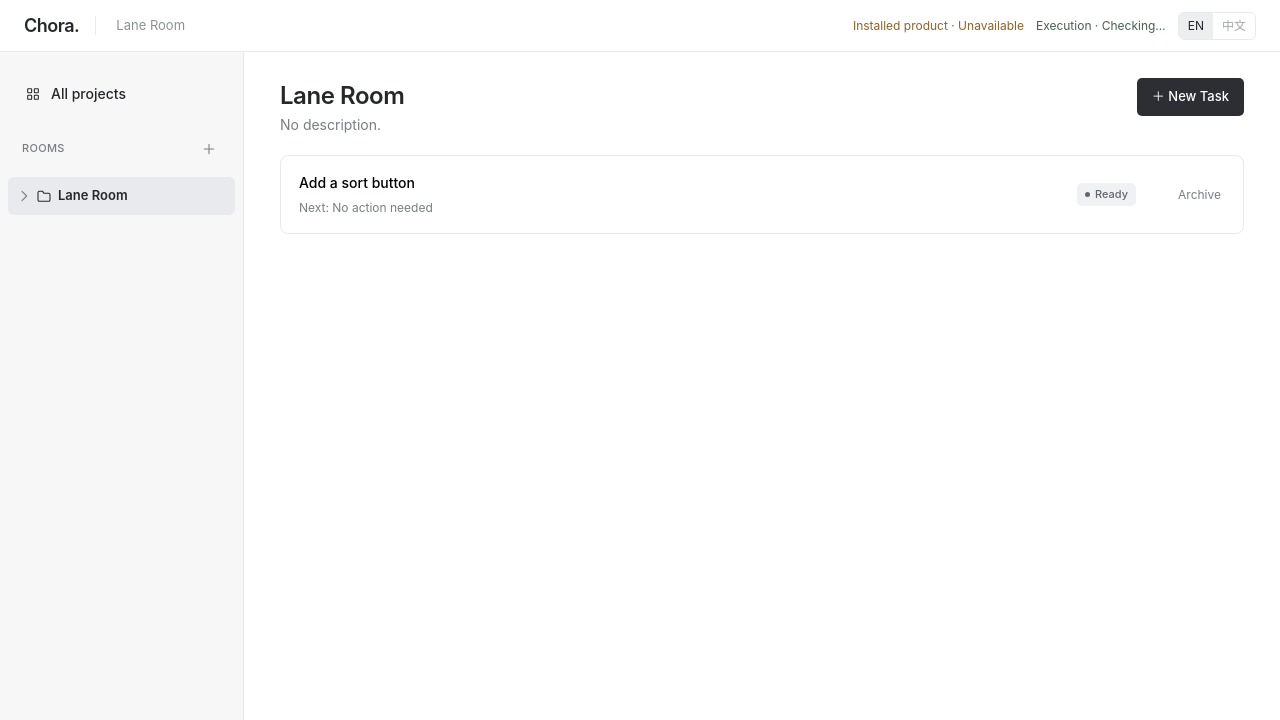
Test case: NewApp › archives and restores a Task
Expected: the text "Add a sort button" is shown, 299,174 -> 415,191
Step 1. Click the button "Archive" → (1200, 194), box 1164,180 -> 1235,210
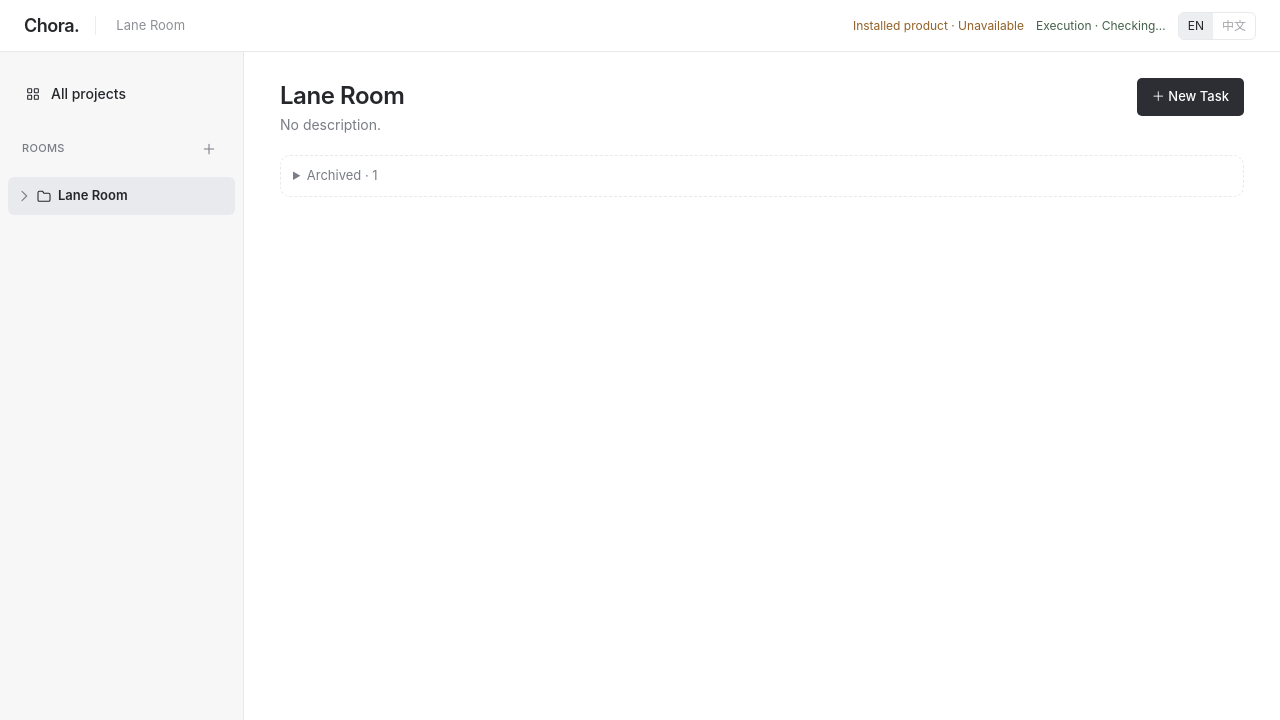
Now the heading "Archived · 1" is shown
Step 2. Click the heading "Archived · 1" → (342, 175), box 307,167 -> 378,183
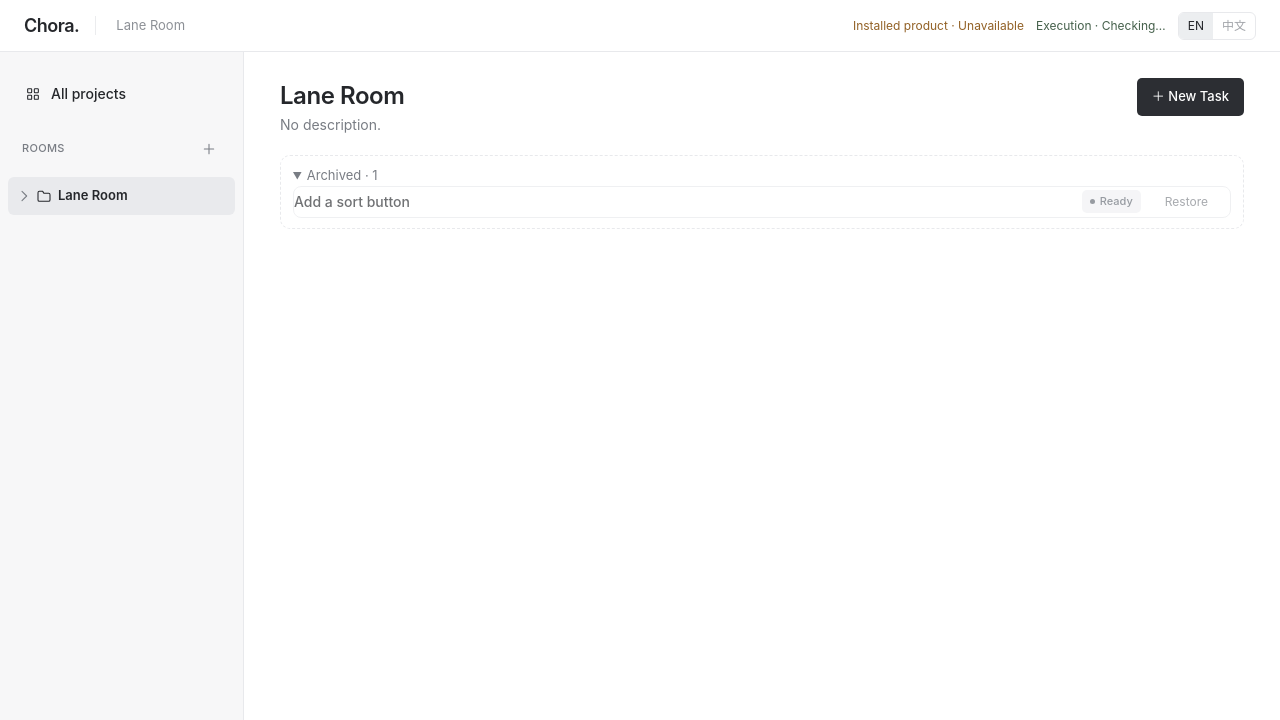
Step 3. Click the button "Restore" → (1186, 202), box 1151,186 -> 1222,216
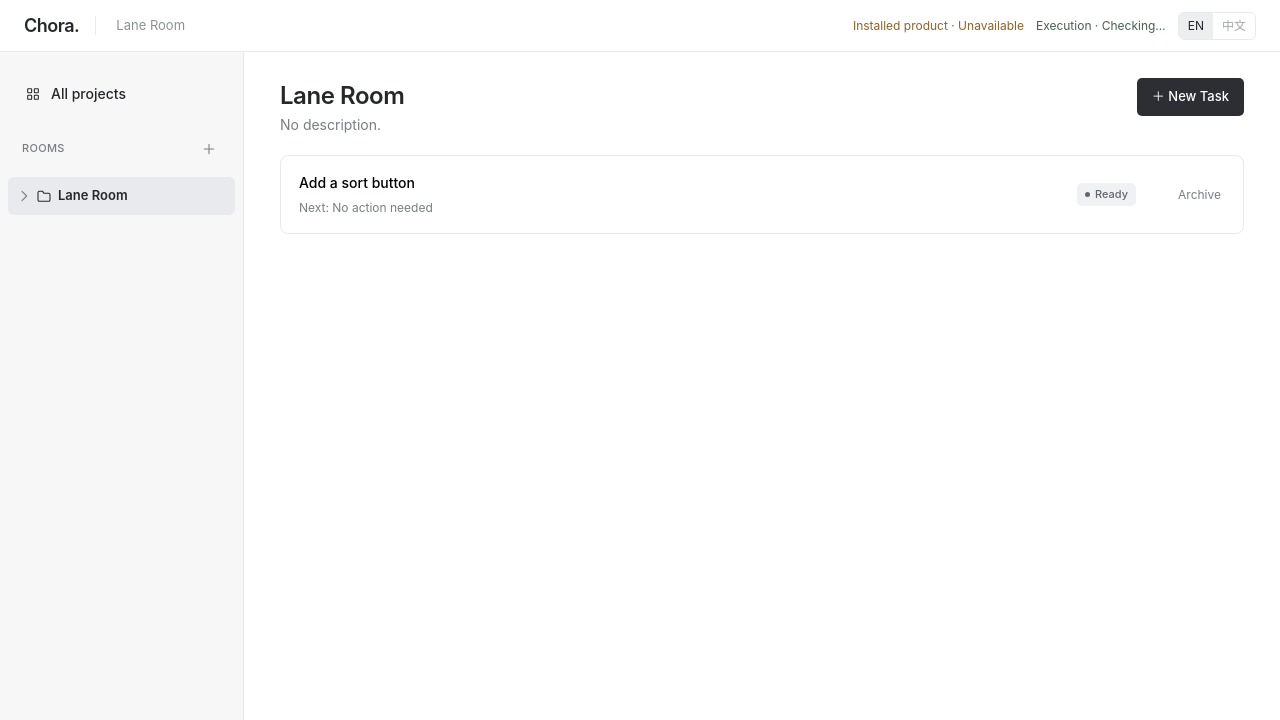
Now the heading "Archived · 1" is gone
